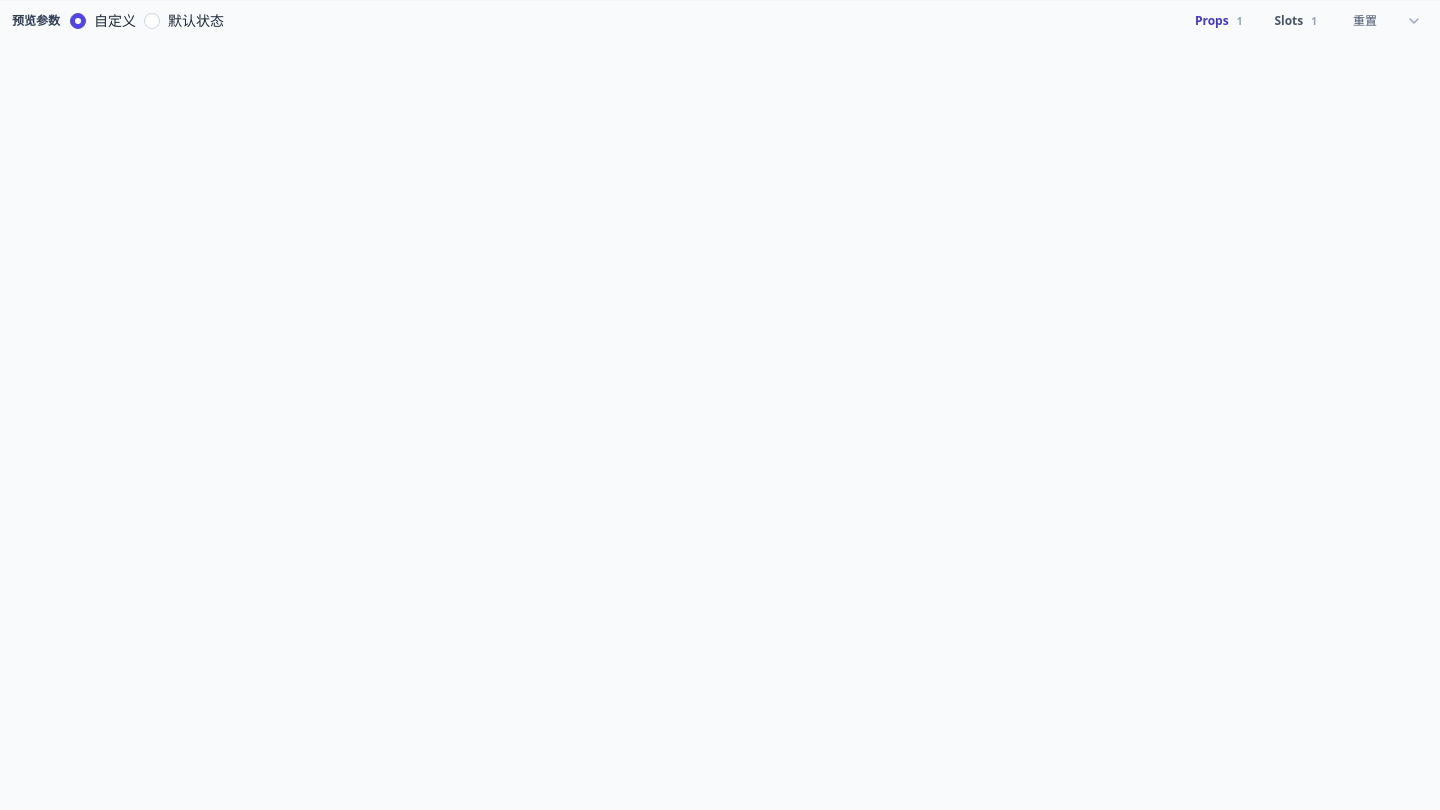
ComponentPreviewParameterDock › 点击 Dock 外部区域应关闭抽屉
Click the button "Props 1" at (1219, 21), box [1182,9,1255,33]
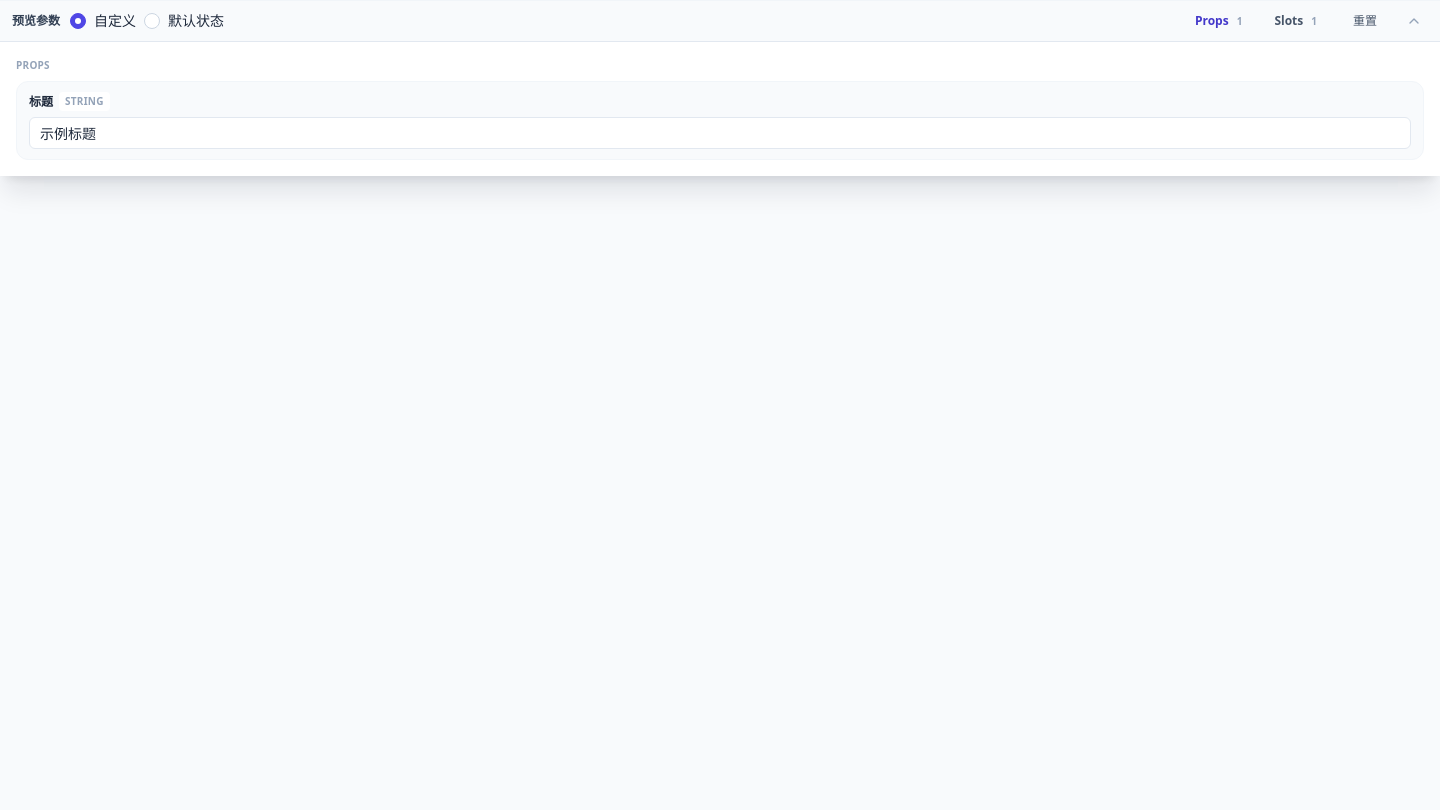
Now the heading "标题" is shown, box [29,94,53,110]
Press the mouse on the element showing "预览参数 自定义 默认状态 Props 1 Slots 1 重置 Props 标题 string" at (720, 405), box [0,0,1439,809]
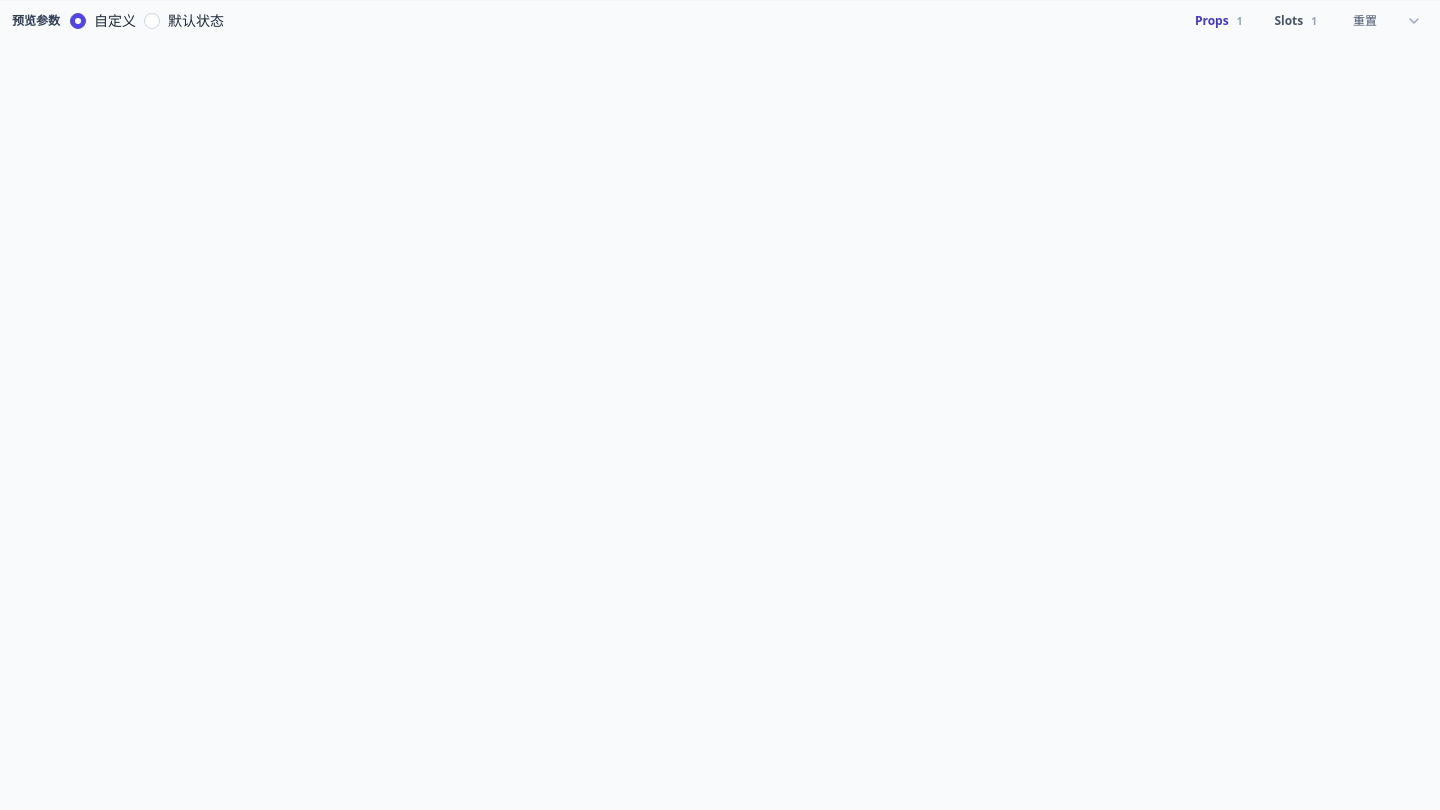
Now the button titled "展开预览参数" is collapsed, box [1400,7,1428,35]
Now the heading "标题" is gone
